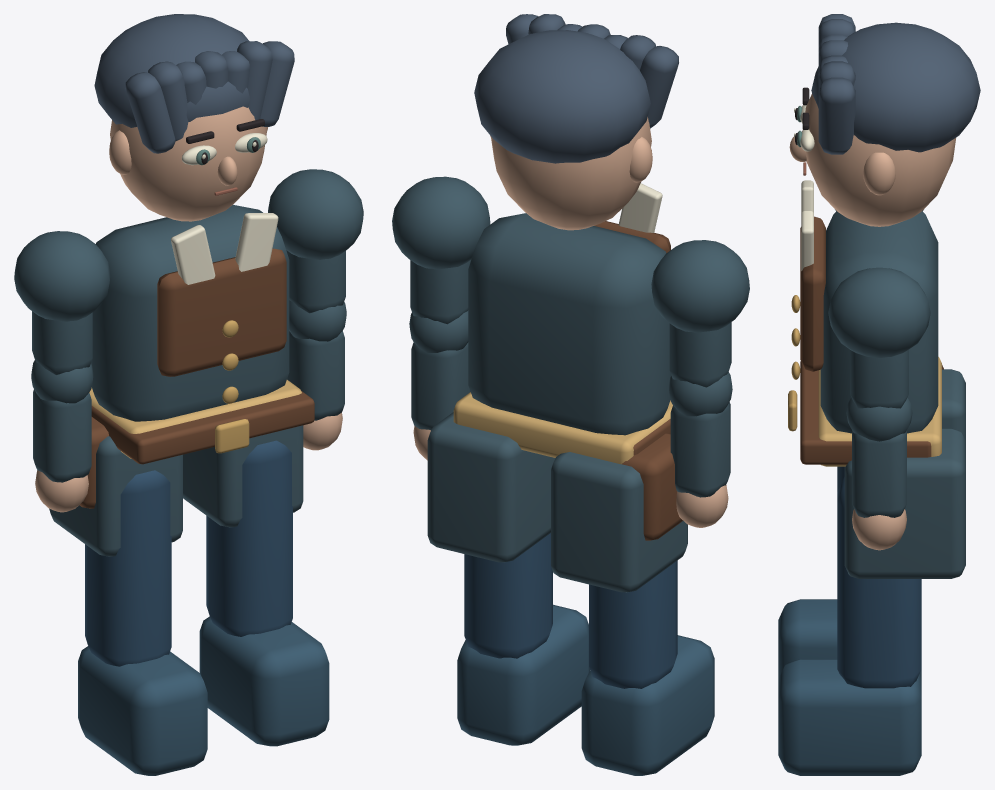
File: wayfarer.glb
3 renders of one model, left to right at view 1: azimuth 30°, elevation 25°; view 2: azimuth 150°, elevation 25°; view 3: azimuth 270°, elevation 25°, orthographic. The views are drawn at different scales.
Parts seen in each view (by area): view 1: torso, left_leg_mesh, right_leg_mesh, left_boot, right_boot, chest_plate, head, hair_cap, left_pauldron, right_pauldron, coat_tail_left, detail_belt (+22 smaller); view 2: torso, hair_cap, coat_tail_right, coat_tail_left, left_boot, right_boot, left_leg_mesh, right_leg_mesh, head, left_pauldron, right_pauldron, belt (+13 smaller); view 3: right_boot, hair_cap, torso, coat_tail_right, right_leg_mesh, head, right_pauldron, right_forearm, left_boot, chest_plate, right_upper_arm, detail_belt (+12 smaller).
Part boxes in pixels (x1=…): torso: x1=91, y1=205, x2=289, y2=421; left_leg_mesh: x1=85, y1=470, x2=171, y2=666; right_leg_mesh: x1=206, y1=440, x2=292, y2=636; left_boot: x1=78, y1=646, x2=207, y2=775; right_boot: x1=199, y1=616, x2=329, y2=746; chest_plate: x1=157, y1=248, x2=286, y2=376; head: x1=110, y1=106, x2=267, y2=221; hair_cap: x1=94, y1=14, x2=250, y2=127; left_pauldron: x1=14, y1=231, x2=110, y2=321; right_pauldron: x1=268, y1=169, x2=363, y2=259; coat_tail_left: x1=49, y1=436, x2=182, y2=556; detail_belt: x1=91, y1=390, x2=314, y2=464; torso: x1=468, y1=213, x2=671, y2=435; hair_cap: x1=474, y1=30, x2=650, y2=163; coat_tail_right: x1=427, y1=412, x2=555, y2=562; coat_tail_left: x1=551, y1=452, x2=687, y2=592; left_boot: x1=581, y1=635, x2=714, y2=775; right_boot: x1=457, y1=604, x2=589, y2=745; left_leg_mesh: x1=589, y1=560, x2=677, y2=688; right_leg_mesh: x1=464, y1=533, x2=552, y2=658; head: x1=491, y1=117, x2=651, y2=230; left_pauldron: x1=651, y1=240, x2=749, y2=332; right_pauldron: x1=392, y1=176, x2=490, y2=269; belt: x1=453, y1=392, x2=672, y2=464; right_boot: x1=778, y1=659, x2=921, y2=775; hair_cap: x1=811, y1=22, x2=980, y2=152; torso: x1=820, y1=211, x2=938, y2=433; coat_tail_right: x1=844, y1=428, x2=965, y2=578; right_leg_mesh: x1=837, y1=477, x2=921, y2=688; head: x1=802, y1=94, x2=955, y2=226; right_pauldron: x1=828, y1=267, x2=930, y2=357; right_forearm: x1=852, y1=430, x2=906, y2=517; left_boot: x1=778, y1=599, x2=921, y2=678; chest_plate: x1=800, y1=216, x2=825, y2=371; right_upper_arm: x1=850, y1=350, x2=908, y2=408; detail_belt: x1=800, y1=361, x2=931, y2=464.
Bounding box in the file's own units: 1.06 × 2.11 × 0.55.
